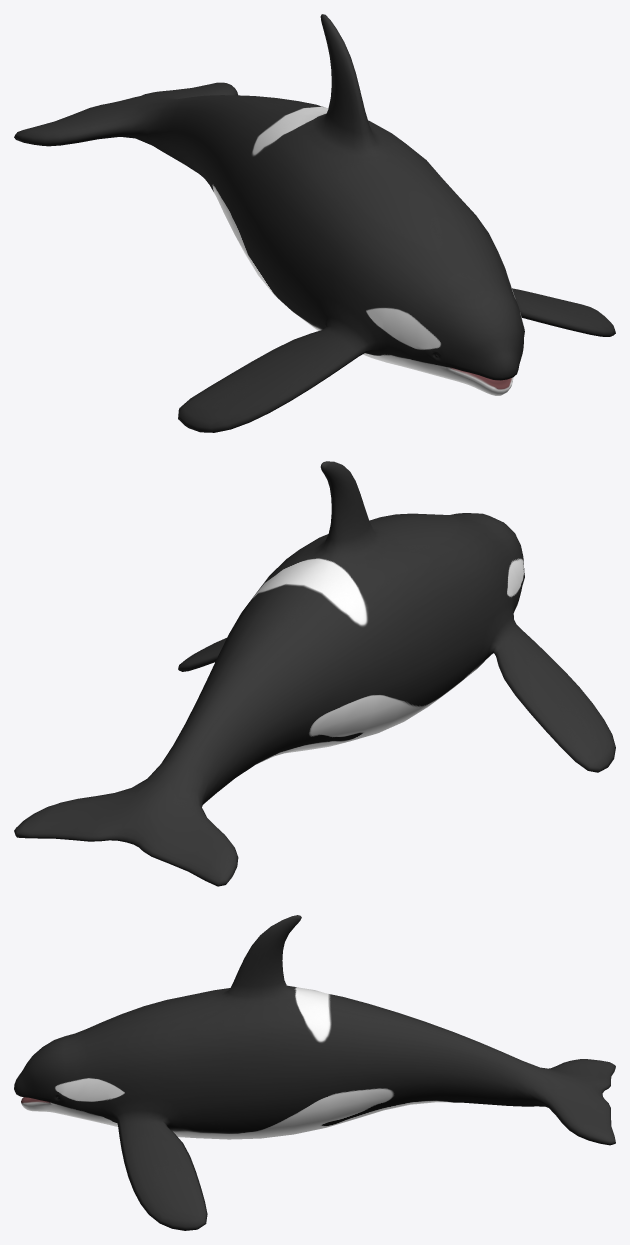
The model's file is Orca.glb.
The picture shows the model from 3 angles, top to bottom: view 1: azimuth 30°, elevation 25°; view 2: azimuth 150°, elevation 25°; view 3: azimuth 270°, elevation 25°; orthographic projection. The views are drawn at different scales.
Visible parts, largest first — view 1: orca; view 2: orca; view 3: orca.
Boxes of the visible parts, x1=… form: orca: x1=14, y1=14, x2=615, y2=432; orca: x1=14, y1=461, x2=615, y2=886; orca: x1=14, y1=915, x2=615, y2=1230.
Bounding box in the file's own units: 2.4 × 1.68 × 3.85.
1 material, 1 textured.
